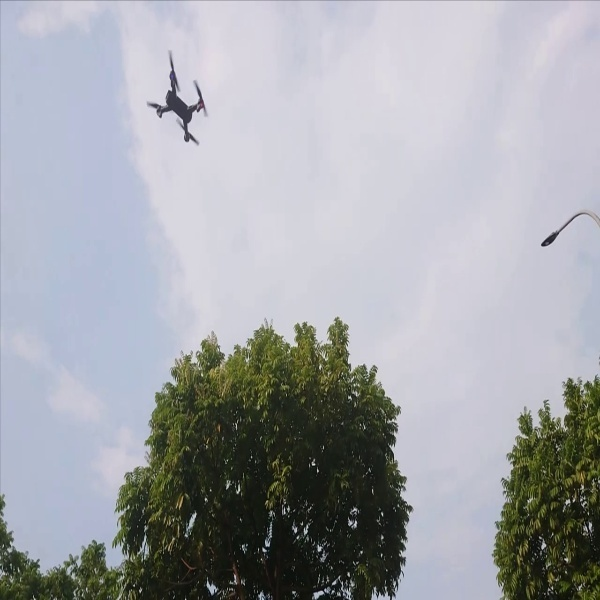drone: (135, 49, 219, 153)
